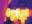Hotspot: (6, 8, 30, 23)
